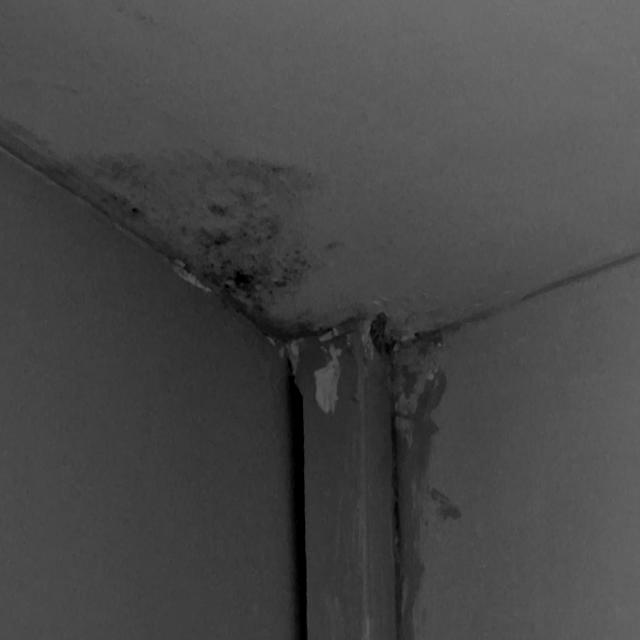stain marks: (81, 134, 336, 326), (0, 123, 78, 195)
